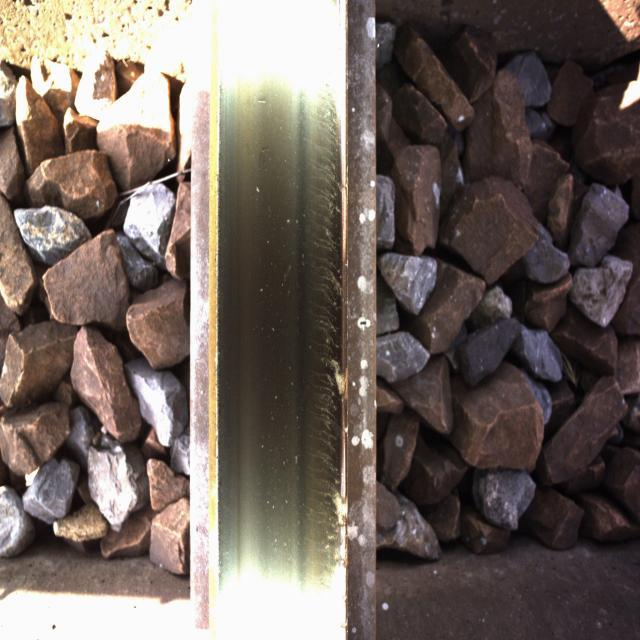normal: (232, 76, 350, 600)
